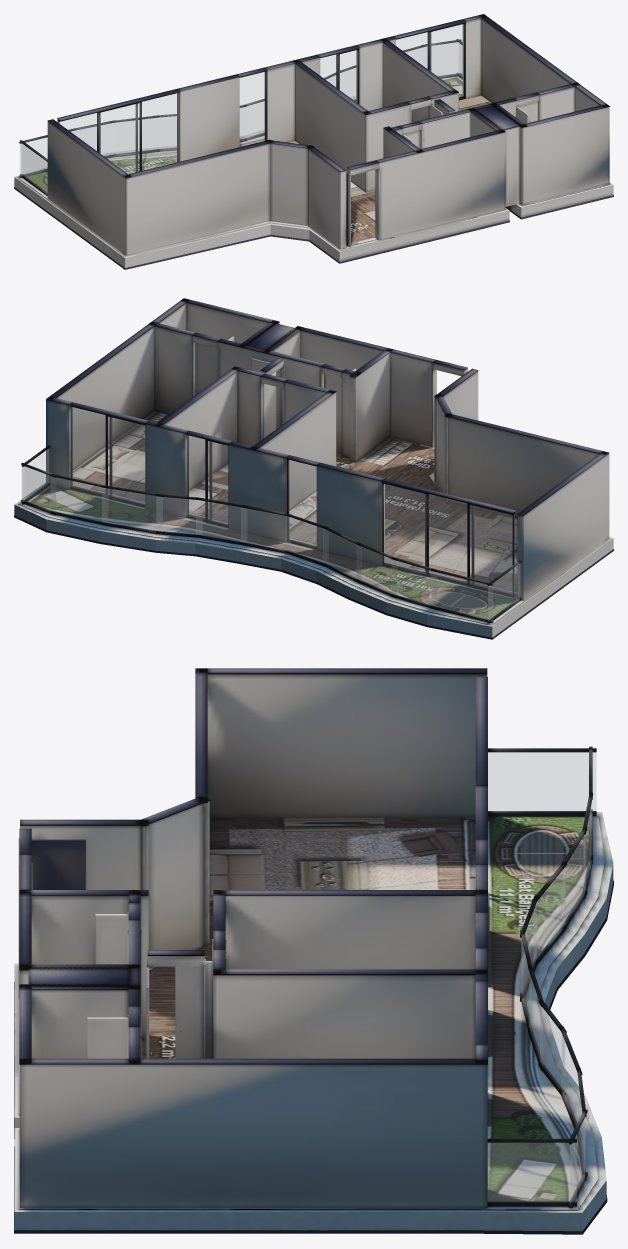
The picture shows the model from 3 angles, top to bottom: view 1: azimuth 30°, elevation 25°; view 2: azimuth 150°, elevation 25°; view 3: azimuth 270°, elevation 25°; orthographic projection. The views are drawn at different scales.
Parts seen in each view (by area): view 1: plan, glass0_m, glass3_m, glass1_m, glass2_m, railg10_m, railg1_m, railg2_m, railg12_m, railg11_m, railg7_m, railg9_m (+1 smaller); view 2: plan, glass0_m, glass3_m, glass2_m, railg12_m, railg4_m, glass1_m, railg3_m, railg6_m, railg7_m, railg5_m, railg11_m (+6 smaller); view 3: plan, railg1_m, railg0_m, railg9_m, railg5_m, railg10_m, railg4_m, railg2_m, railg6_m.
Boxes of the visible parts, x1,y1,x2,y2 form: plan: [14, 14, 613, 269]; glass0_m: [59, 93, 178, 173]; glass3_m: [396, 24, 463, 96]; glass1_m: [240, 72, 264, 146]; glass2_m: [320, 50, 357, 102]; railg10_m: [115, 119, 153, 153]; railg1_m: [21, 144, 47, 192]; railg2_m: [426, 42, 457, 76]; railg12_m: [20, 138, 47, 175]; railg11_m: [76, 124, 110, 155]; railg7_m: [241, 102, 263, 139]; railg9_m: [160, 116, 176, 148]; plan: [14, 298, 613, 639]; glass0_m: [384, 484, 514, 593]; glass3_m: [71, 407, 144, 503]; glass2_m: [187, 435, 227, 524]; railg12_m: [431, 571, 492, 620]; railg4_m: [102, 488, 162, 531]; glass1_m: [289, 460, 316, 545]; railg3_m: [51, 476, 107, 522]; railg6_m: [196, 500, 246, 542]; railg7_m: [241, 507, 290, 551]; railg5_m: [156, 496, 202, 534]; railg11_m: [392, 559, 436, 606]; plan: [14, 668, 613, 1234]; railg1_m: [488, 752, 596, 811]; railg0_m: [488, 1143, 576, 1201]; railg9_m: [534, 867, 565, 961]; railg5_m: [540, 1005, 564, 1092]; railg10_m: [561, 834, 585, 927]; railg4_m: [562, 1035, 580, 1124]; railg2_m: [570, 1117, 585, 1203]; railg6_m: [529, 973, 542, 1065].
Bounding box in the file's own units: 13.47 × 2.62 × 8.51.
2 materials, 1 textured.
